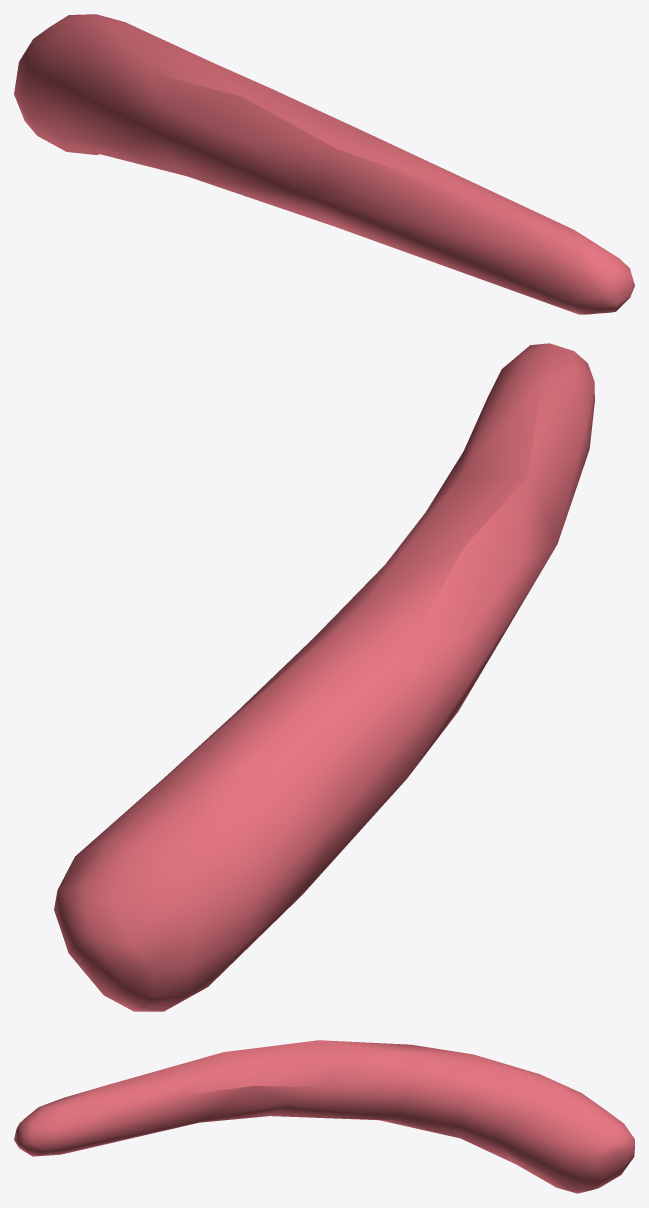
The model's file is fma68131_fj5975.glb.
3 views of the same model, one above another, from view 1: azimuth 30°, elevation 25°; view 2: azimuth 150°, elevation 25°; view 3: azimuth 270°, elevation 25° (orthographic). The views are drawn at different scales.
Visible parts, largest first — view 1: FMA68131_FJ5975; view 2: FMA68131_FJ5975; view 3: FMA68131_FJ5975.
Boxes of the visible parts, box(x1,y1,x2,y2) form: FMA68131_FJ5975: box(14, 14, 634, 314); FMA68131_FJ5975: box(54, 343, 594, 1011); FMA68131_FJ5975: box(14, 1040, 634, 1193).
Size of the model in its own units: 0.00384 by 0.00338 by 0.0138.
